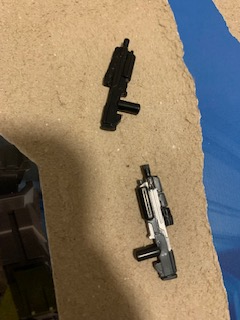rifle: (129, 160, 179, 282), (93, 38, 142, 134)
